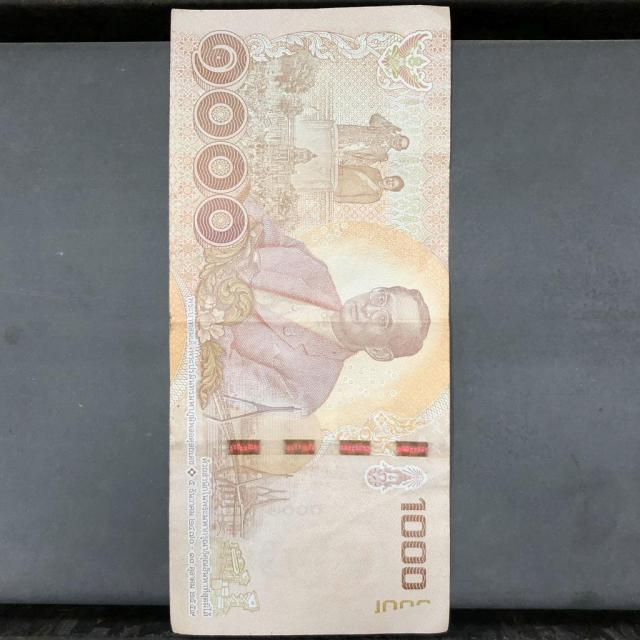THAI1000: (169, 6, 450, 635)
